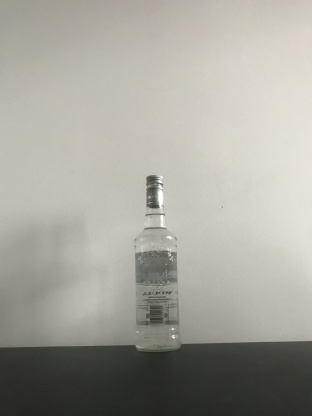nakretka: (144, 173, 164, 209)
